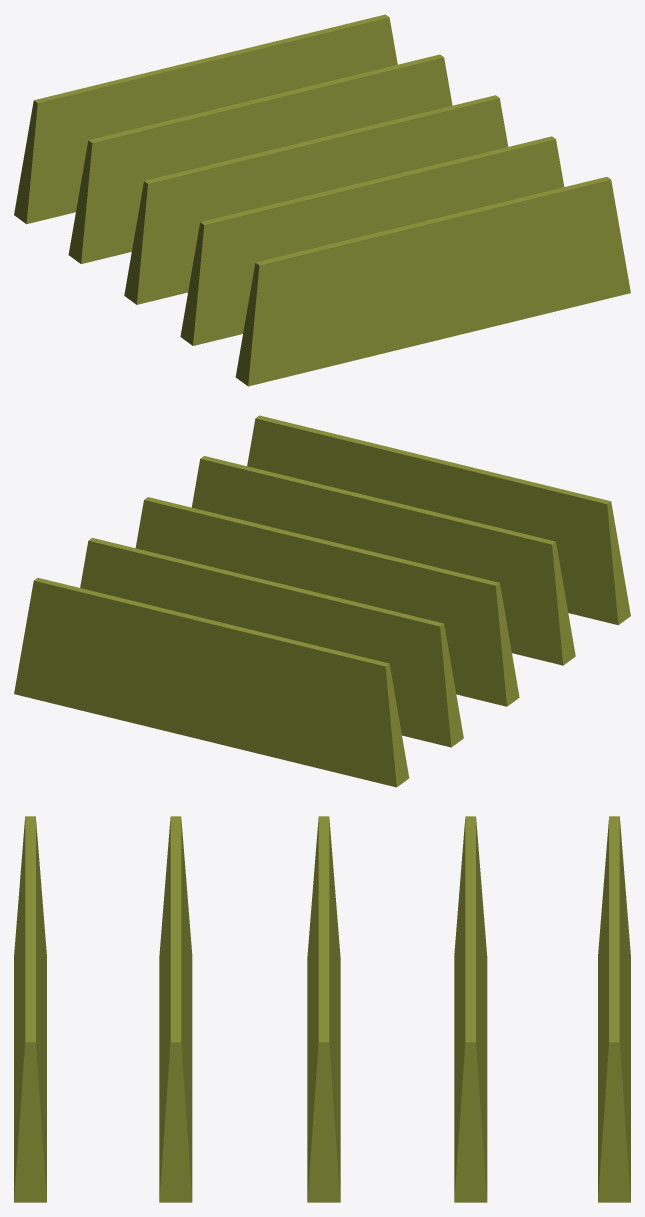
File: farm_plants_2_yellow_mat.fbx
3 views of the same model, one above another, from view 1: azimuth 30°, elevation 25°; view 2: azimuth 150°, elevation 25°; view 3: azimuth 270°, elevation 25° (orthographic). The views are drawn at different scales.
Parts seen in each view (by area): view 1: farm_plants_2_yellow_mat; view 2: farm_plants_2_yellow_mat; view 3: farm_plants_2_yellow_mat.
Part boxes in pixels (left/top/right/bottom): farm_plants_2_yellow_mat: left=14, top=14, right=630, bottom=386; farm_plants_2_yellow_mat: left=14, top=415, right=630, bottom=787; farm_plants_2_yellow_mat: left=14, top=816, right=630, bottom=1202.
Bounding box in the file's own units: 186 × 52.92 × 197.
